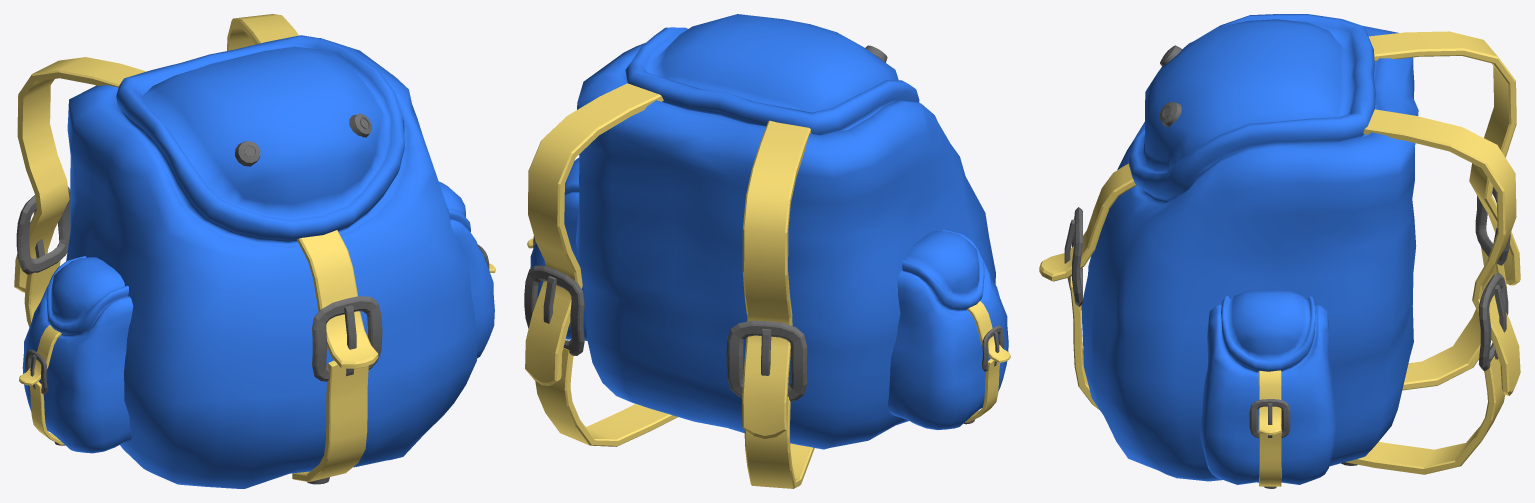
Rendered from Backpack 03.fbx.
3 renders of one model, left to right at view 1: azimuth 30°, elevation 25°; view 2: azimuth 150°, elevation 25°; view 3: azimuth 270°, elevation 25°, orthographic. The views are drawn at different scales.
Visible parts, largest first — view 1: Backpack; view 2: Backpack; view 3: Backpack.
Boxes of the visible parts, x1,y1,x2,y2 form: Backpack: (14, 14, 495, 488); Backpack: (524, 14, 1010, 488); Backpack: (1039, 14, 1520, 488).
Bounding box in the file's own units: 44 × 33 × 37.4.
